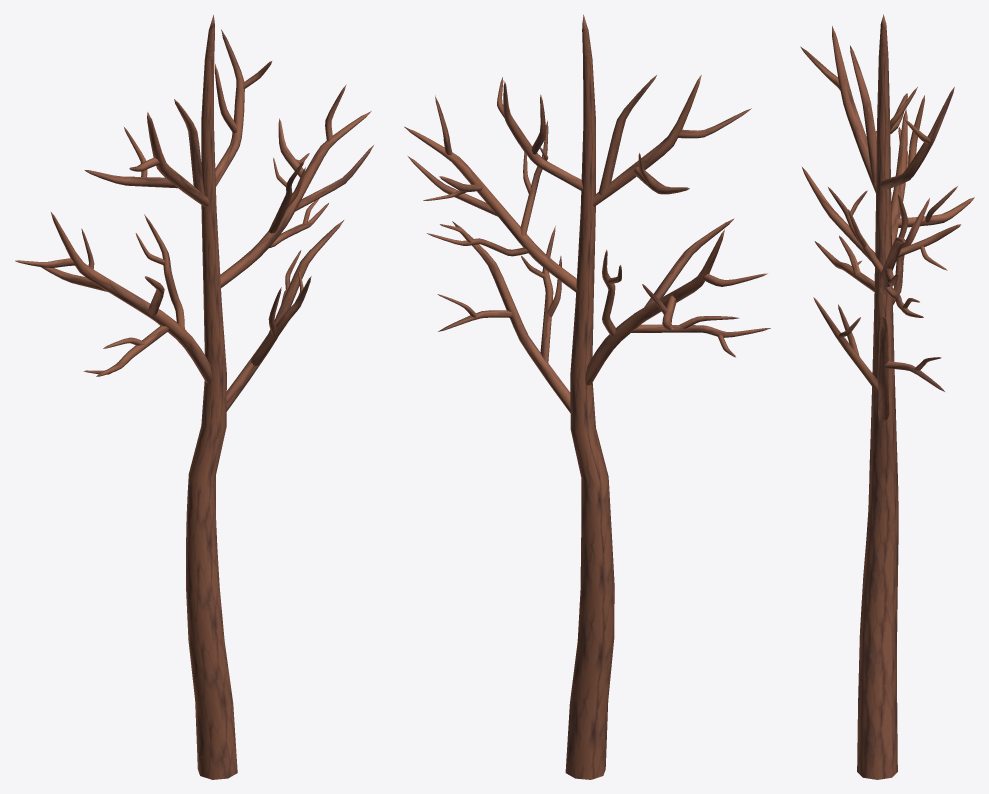
The model's file is quaternius-ultimate-stylized-nature-dead-tree-1.glb.
3 renders of one model, left to right at view 1: azimuth 30°, elevation 25°; view 2: azimuth 150°, elevation 25°; view 3: azimuth 270°, elevation 25°, orthographic.
Visible parts, largest first — view 1: DeadTree_1; view 2: DeadTree_1; view 3: DeadTree_1.
Part boxes in pixels (box(x1,y1,x2,y2)): DeadTree_1: box(15, 15, 373, 779); DeadTree_1: box(404, 14, 770, 779); DeadTree_1: box(800, 14, 974, 779).
Bounding box in the file's own units: 3.09 × 6.2 × 1.3.
1 material, 1 textured.
